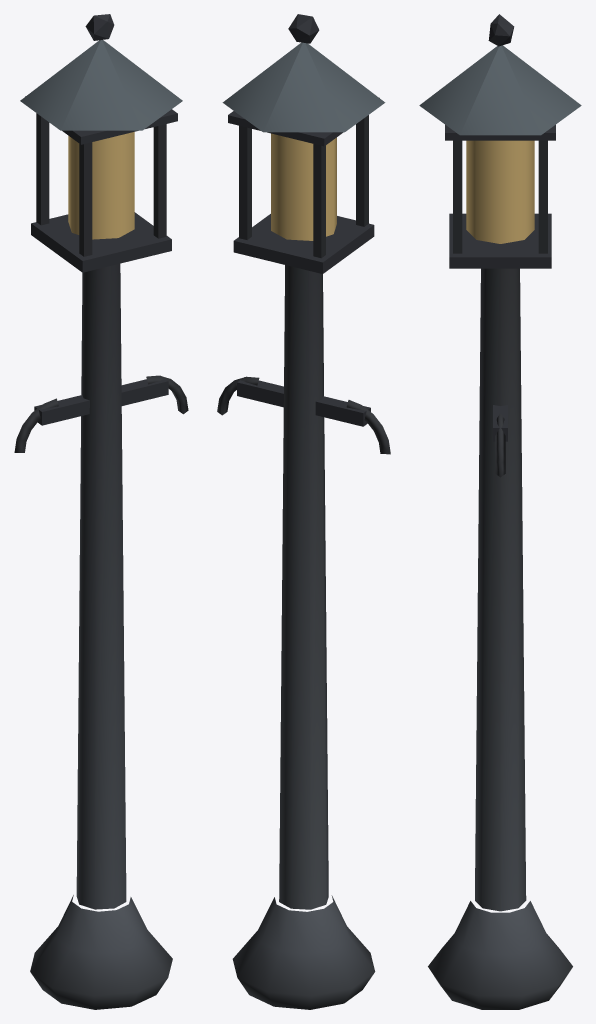
Rendered from streetlamp-01.glb.
The picture shows the model from 3 angles, left to right: view 1: azimuth 30°, elevation 25°; view 2: azimuth 150°, elevation 25°; view 3: azimuth 270°, elevation 25°; orthographic projection.
Visible parts, largest first — view 1: streetlamp_01; view 2: streetlamp_01; view 3: streetlamp_01.
Part boxes in pixels (bbox=[...]): streetlamp_01: bbox=[14, 14, 188, 1009]; streetlamp_01: bbox=[217, 14, 390, 1009]; streetlamp_01: bbox=[419, 14, 581, 1009].
Size of the model in its own units: 0.3837 by 2.05 by 0.3117.
